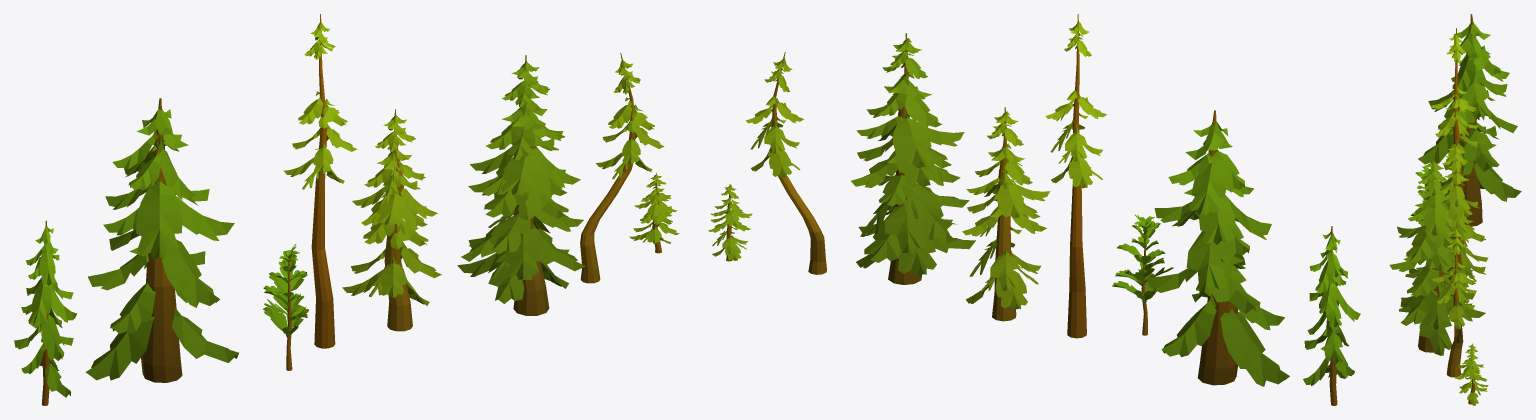
The model's file is Free Pack - Tree.fbx.
3 views of the same model, side by side, from view 1: azimuth 30°, elevation 25°; view 2: azimuth 150°, elevation 25°; view 3: azimuth 270°, elevation 25° (orthographic). The views are drawn at different scales.
Parts seen in each view (by area): view 1: SM_FreeTree_02, SM_FreeTree_06, SM_FreeTree_05, SM_FreeTree_04, SM_FreeTree_01, SM_FreeTree_07, SM_FreeTree_03, SM_FreeTree_08; view 2: SM_FreeTree_02, SM_FreeTree_06, SM_FreeTree_05, SM_FreeTree_04, SM_FreeTree_01, SM_FreeTree_07, SM_FreeTree_03, SM_FreeTree_08; view 3: SM_FreeTree_06, SM_FreeTree_02, SM_FreeTree_05, SM_FreeTree_07, SM_FreeTree_04, SM_FreeTree_08, SM_FreeTree_03.
Part boxes in pixels (x1,y1,x2,y2): SM_FreeTree_02: (85,98,238,382); SM_FreeTree_06: (457,55,585,315); SM_FreeTree_05: (342,109,441,331); SM_FreeTree_04: (283,14,357,348); SM_FreeTree_01: (14,220,76,405); SM_FreeTree_07: (580,53,664,283); SM_FreeTree_03: (263,244,308,370); SM_FreeTree_08: (629,173,679,253); SM_FreeTree_02: (1146,110,1289,386); SM_FreeTree_06: (851,33,975,284); SM_FreeTree_05: (962,107,1049,321); SM_FreeTree_04: (1045,14,1106,338); SM_FreeTree_01: (1303,226,1360,405); SM_FreeTree_07: (745,52,826,274); SM_FreeTree_03: (1112,214,1173,335); SM_FreeTree_08: (708,184,752,261); SM_FreeTree_06: (1389,155,1485,355); SM_FreeTree_02: (1418,14,1521,226); SM_FreeTree_05: (1440,140,1488,303); SM_FreeTree_07: (1432,222,1476,377); SM_FreeTree_04: (1431,28,1477,239); SM_FreeTree_08: (1455,343,1488,405); SM_FreeTree_03: (1410,166,1446,225).
Bounding box in the file's own units: 2555 × 1228 × 595.
